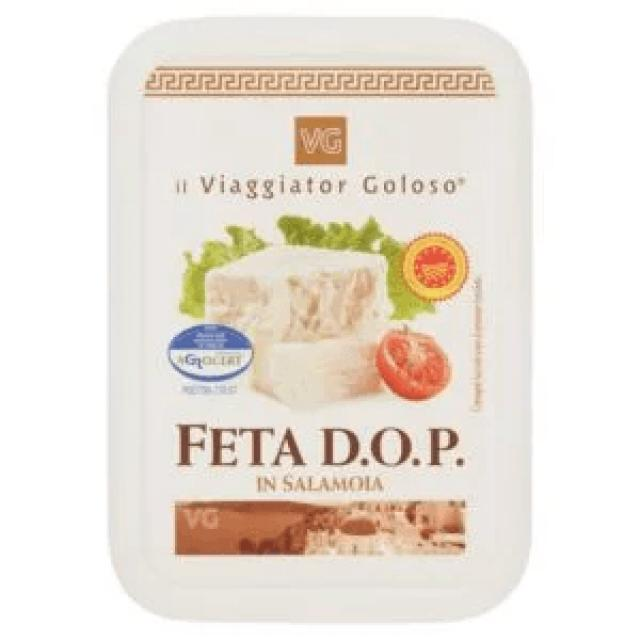Cheese: (107, 19, 542, 625)
